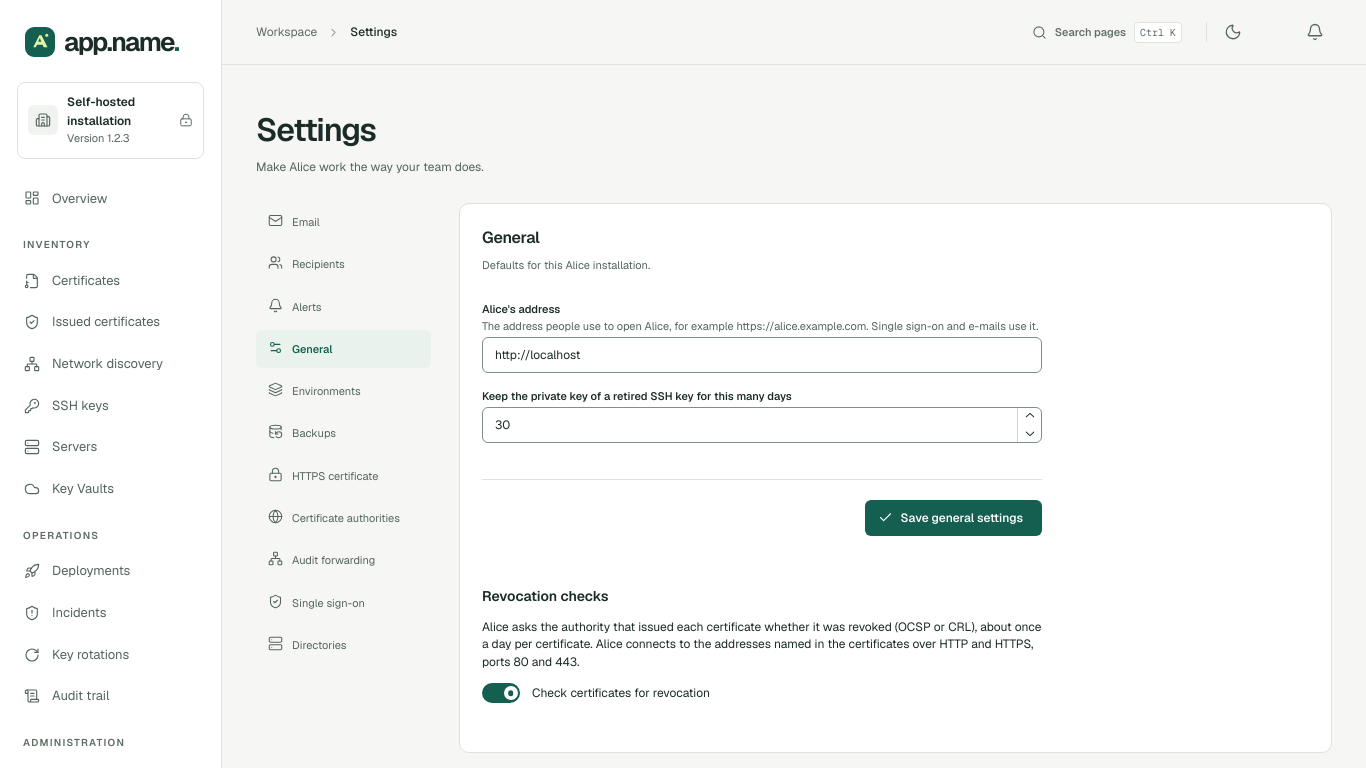
Test: GeneralSettings › prefills Alice's address from the page when none is set, and saves
Expected: the text "The address people use to open Alice" is shown, [482,319,1038,333]
Replace the text in the field labelled "Keep the private key of a retired SSH key for this many days" with "90" at {"x": 762, "y": 425}, box [482,407,1042,443]
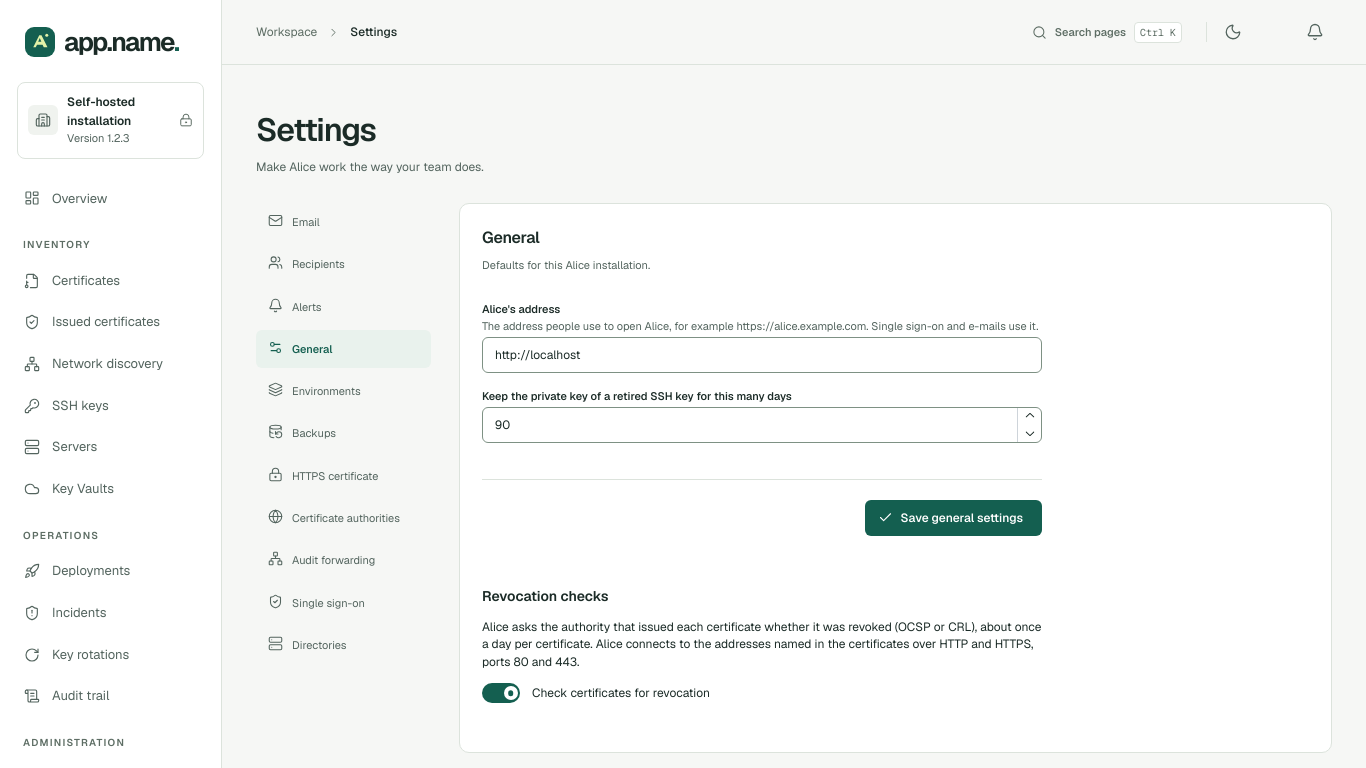
Click the button "Save general settings" at {"x": 953, "y": 518}, box [865,500,1042,536]
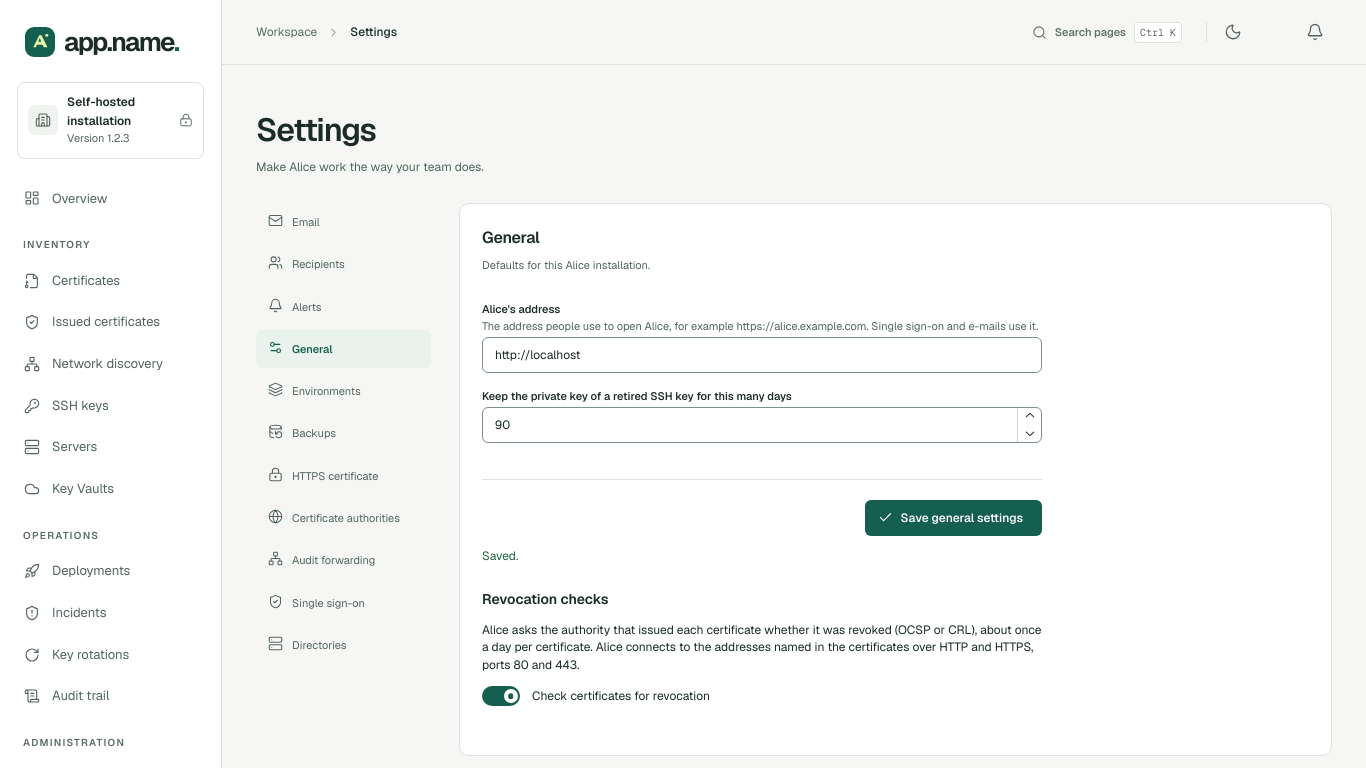
Expected: the text "Saved." is shown, [482,548,518,564]
